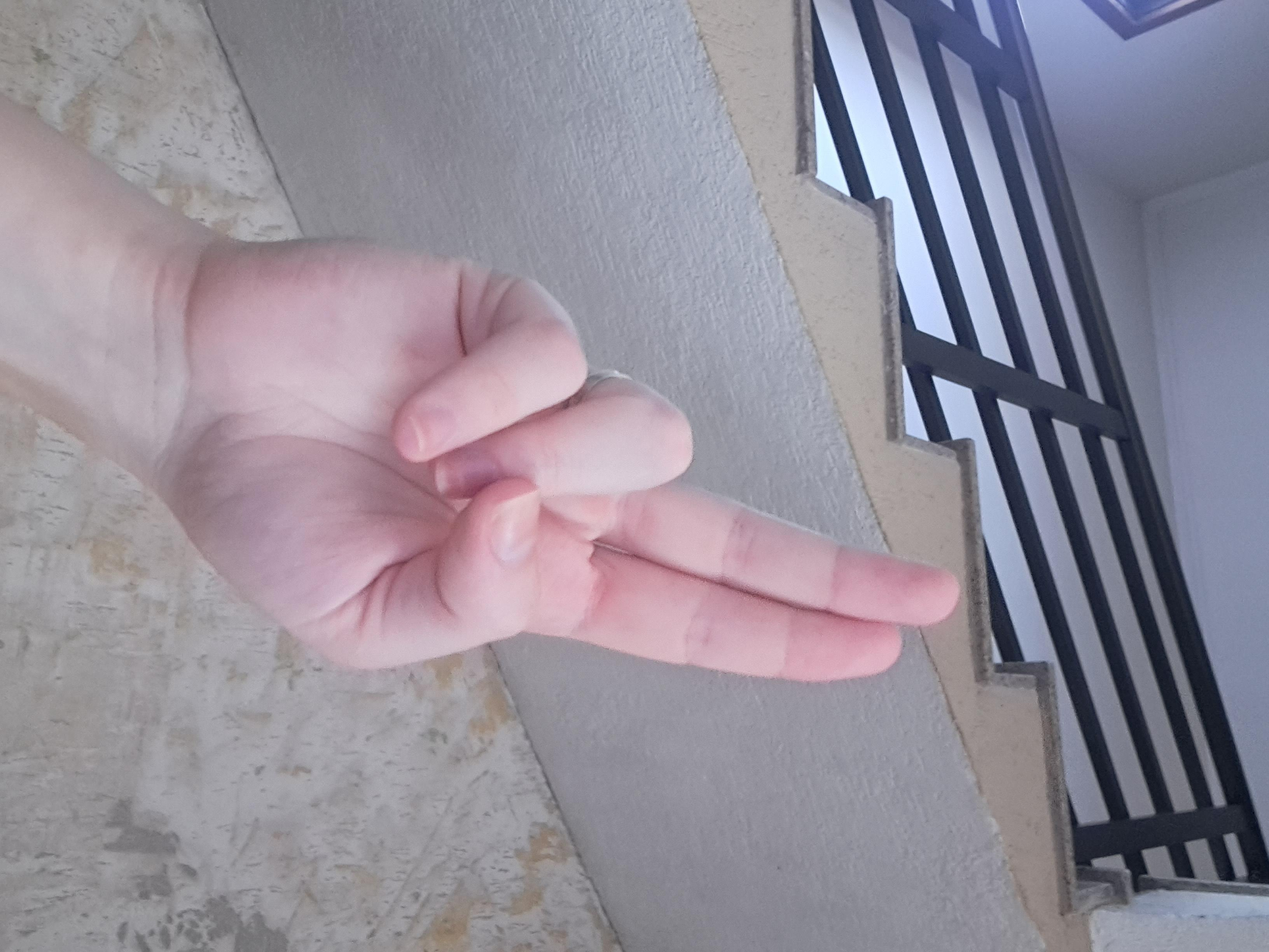U: (306, 233, 923, 828)
